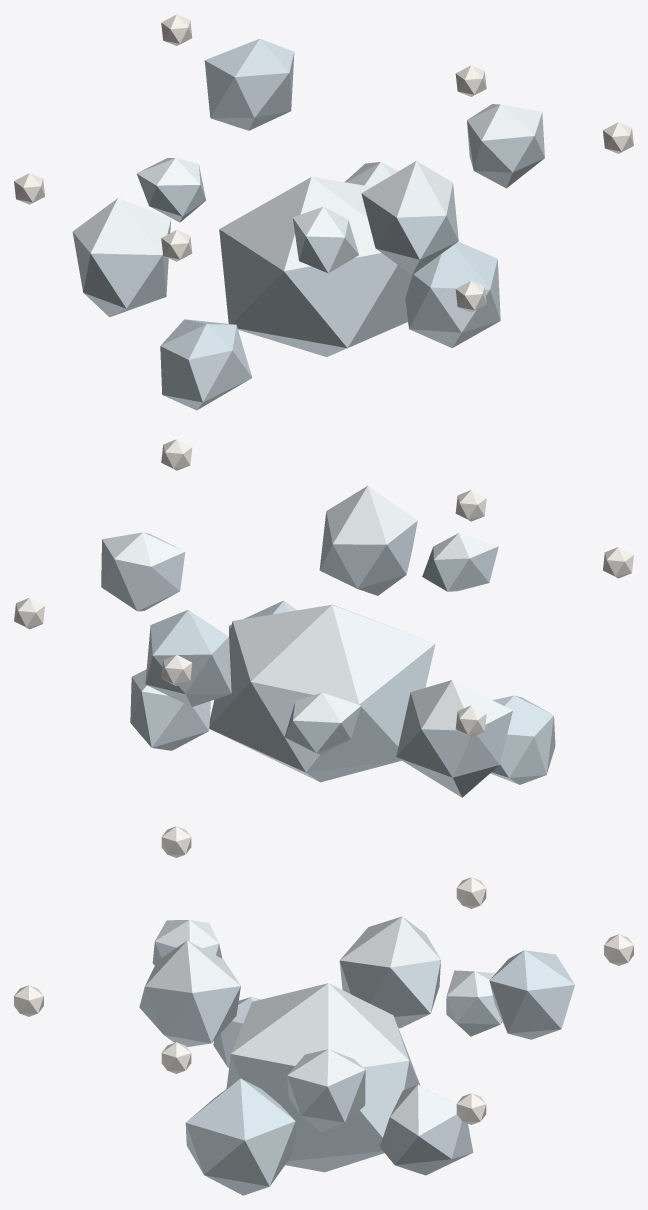
File: snow_puff.glb
3 renders of one model, top to bottom at view 1: azimuth 30°, elevation 25°; view 2: azimuth 150°, elevation 25°; view 3: azimuth 270°, elevation 25°, orthographic.
Visible parts, largest first — view 1: snow_puff; view 2: snow_puff; view 3: snow_puff.
Part boxes in pixels (left/top/right/bottom): snow_puff: left=14, top=14, right=633, bottom=410; snow_puff: left=14, top=439, right=633, bottom=797; snow_puff: left=14, top=826, right=633, bottom=1195.
Size of the model in its own units: 0.7722 by 0.3803 by 0.8825.
